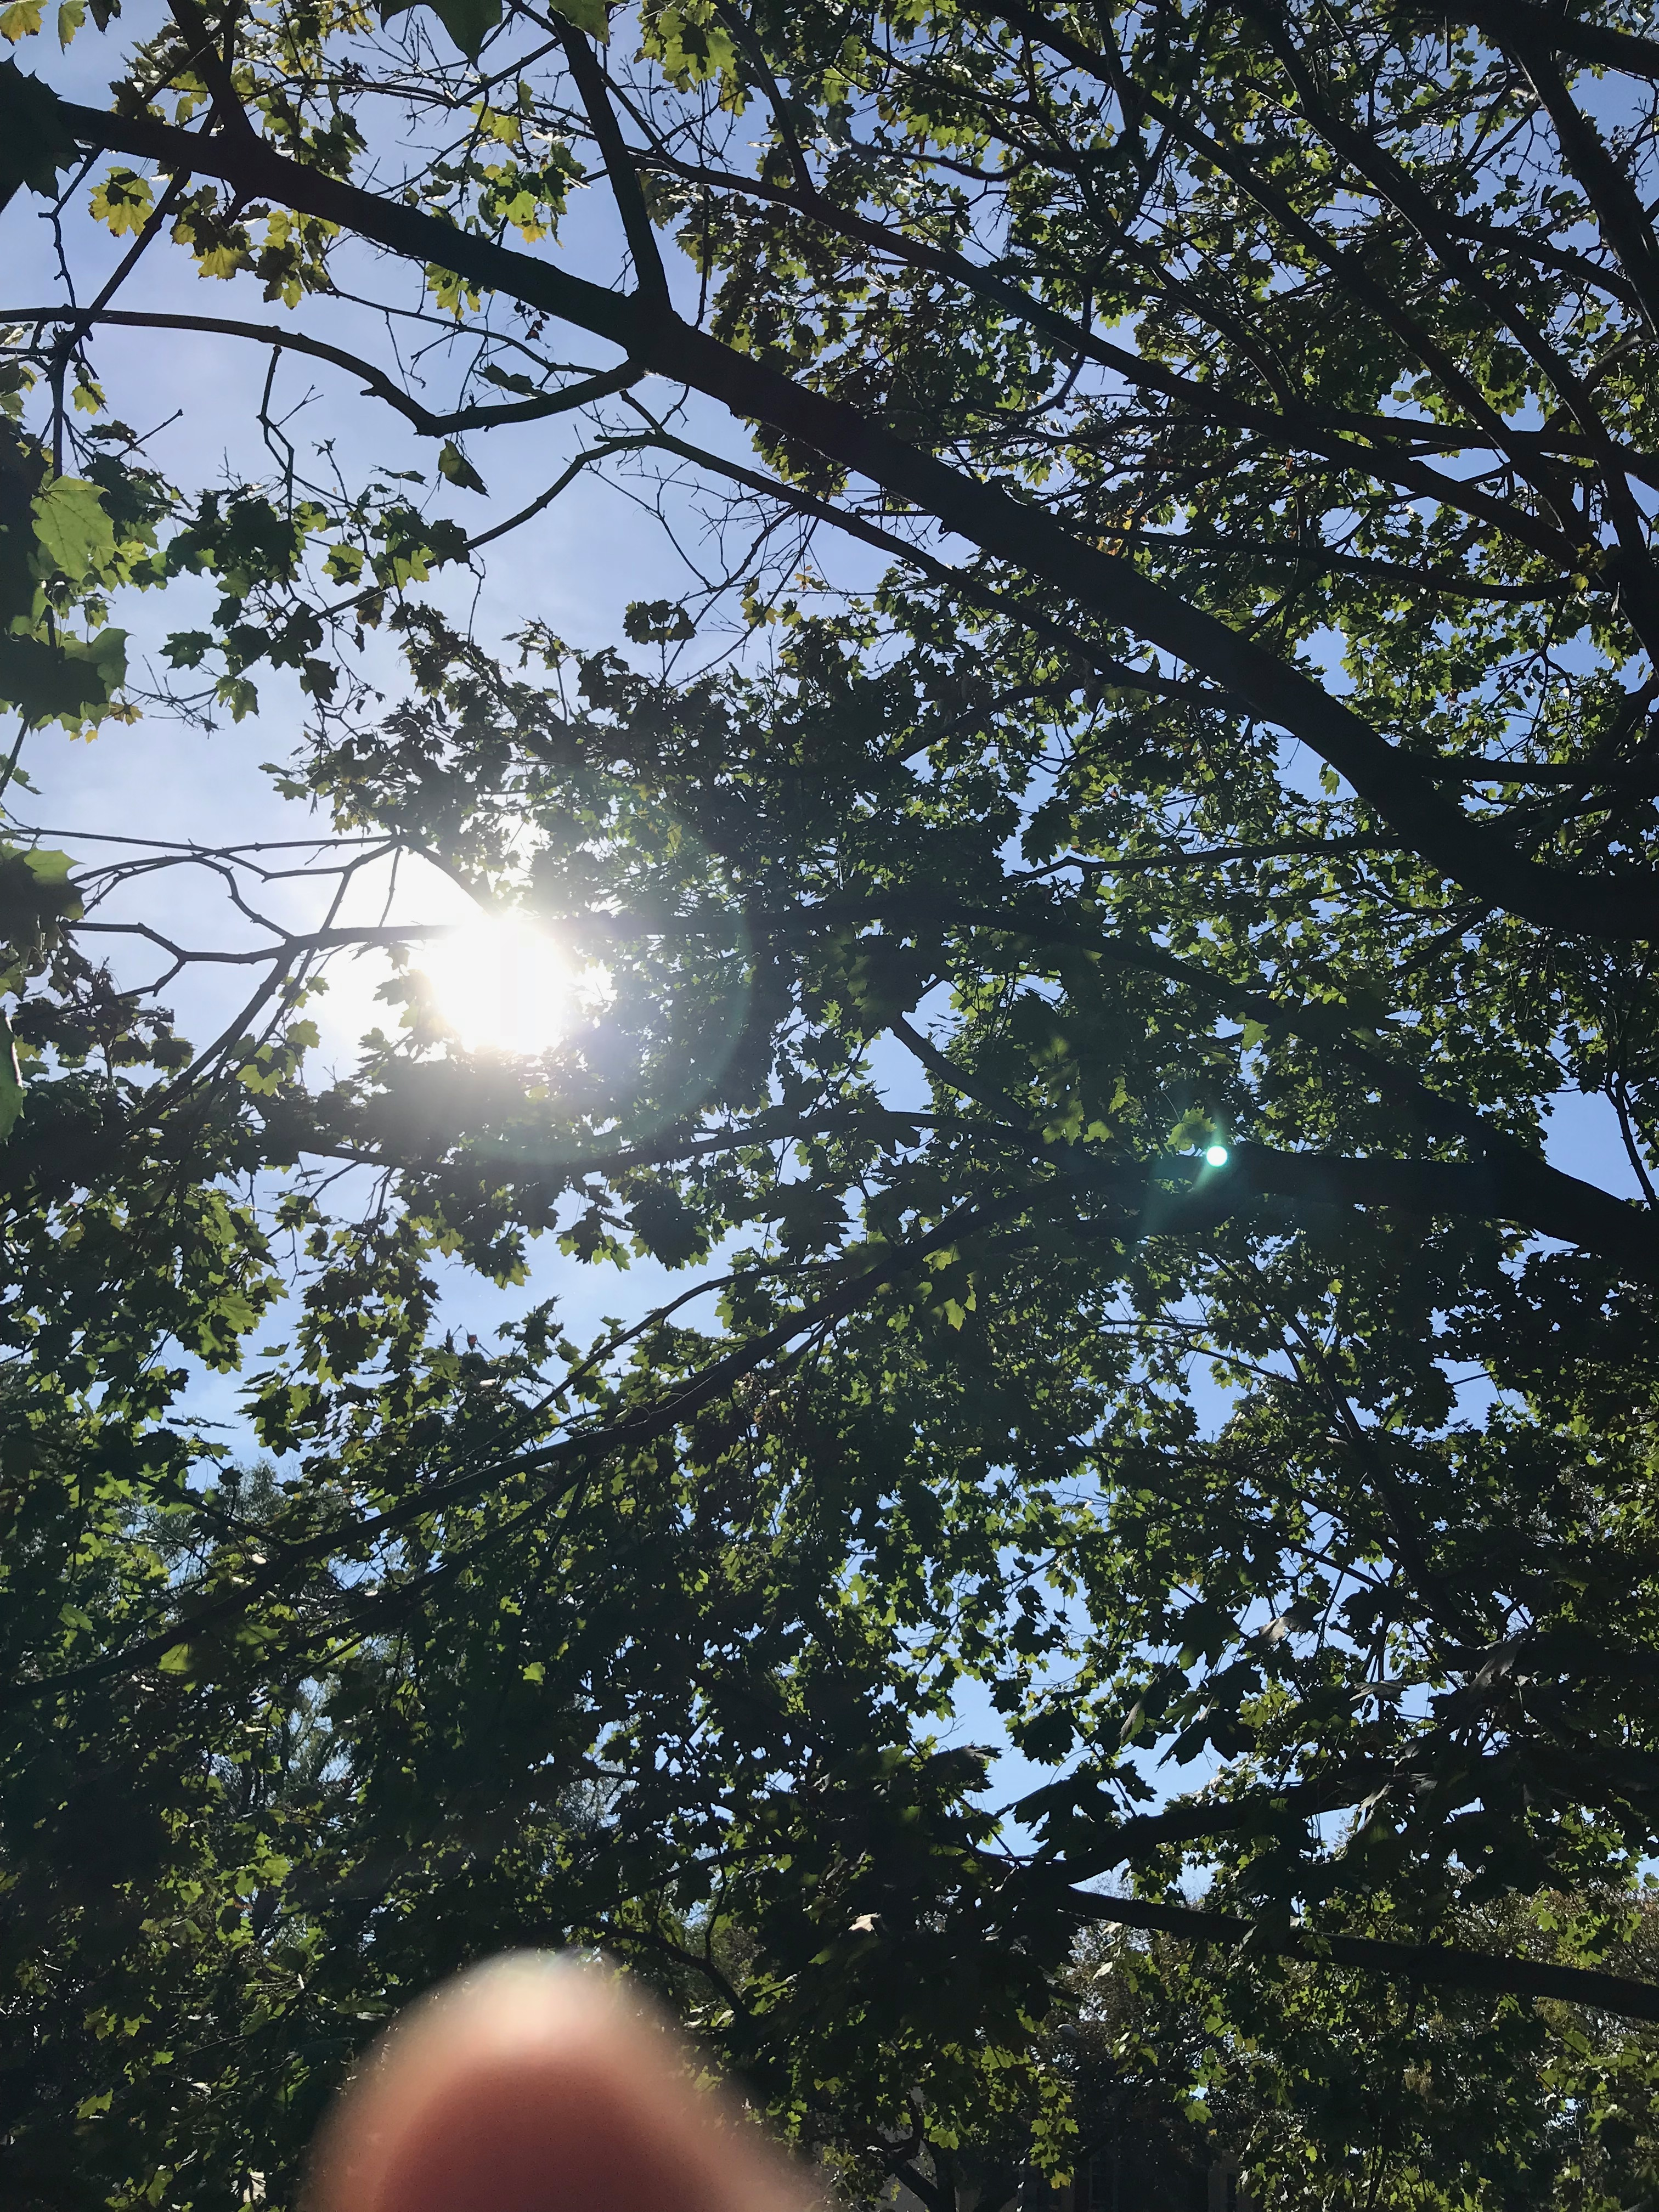flare: (1204, 1143, 1230, 1169)
